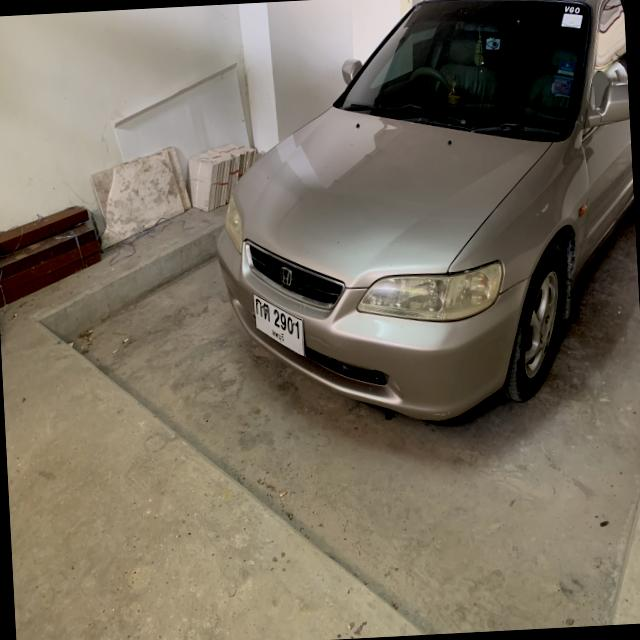license_plate: (252, 288, 308, 359)
